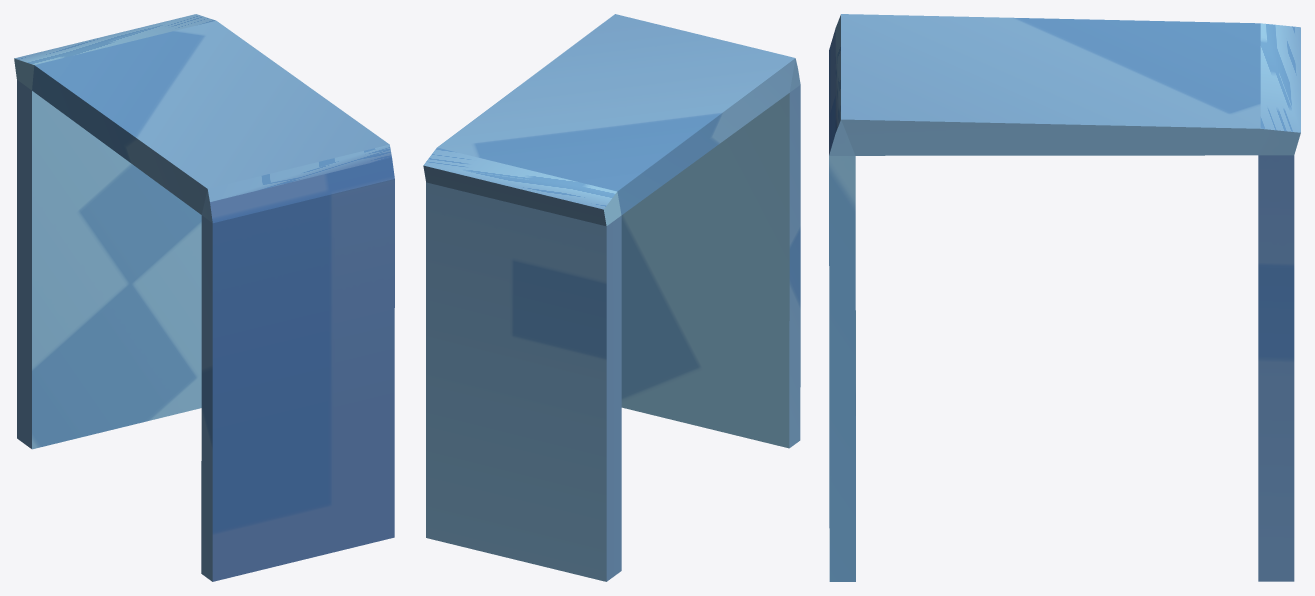
The model's file is table.FBX.
3 views of the same model, side by side, from view 1: azimuth 30°, elevation 25°; view 2: azimuth 150°, elevation 25°; view 3: azimuth 270°, elevation 25° (orthographic). The views are drawn at different scales.
Visible parts, largest first — view 1: shelves003; view 2: shelves003; view 3: shelves003.
Part boxes in pixels (x1,y1,x2,y2): shelves003: (14, 14, 394, 581); shelves003: (423, 14, 800, 581); shelves003: (829, 14, 1300, 581).
Bounding box in the file's own units: 20.51 × 41.17 × 38.08.
Materials: 1 (1 with a texture image).
